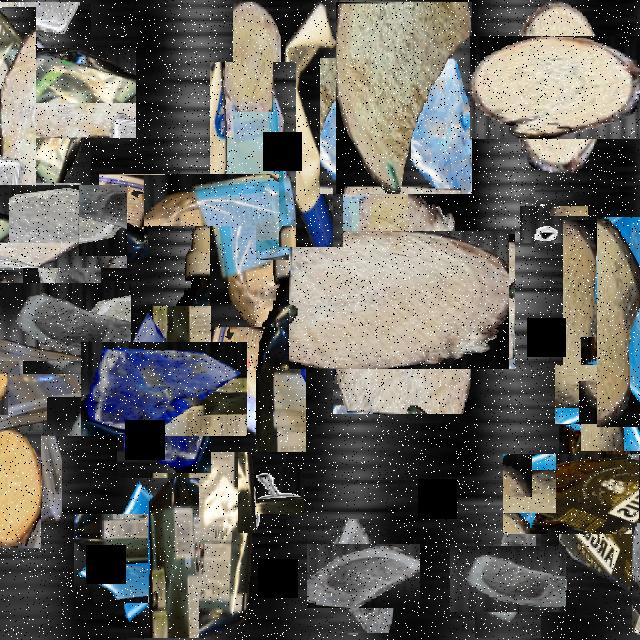glass: (99, 324, 229, 455), (92, 496, 216, 620), (0, 167, 110, 284), (563, 220, 640, 384), (8, 268, 116, 376), (305, 73, 411, 179), (462, 534, 554, 625), (318, 532, 408, 620), (567, 351, 640, 437), (632, 523, 640, 633)
metal: (229, 457, 295, 524), (528, 198, 580, 250)
plastic: (148, 226, 256, 638), (154, 118, 352, 316), (0, 326, 109, 484), (279, 2, 343, 247), (0, 24, 113, 160), (531, 425, 640, 562), (206, 327, 306, 452)
wood: (311, 209, 493, 392), (336, 2, 472, 194), (486, 18, 624, 156), (0, 7, 36, 270), (597, 217, 640, 427), (233, 2, 281, 112), (0, 430, 41, 548)
